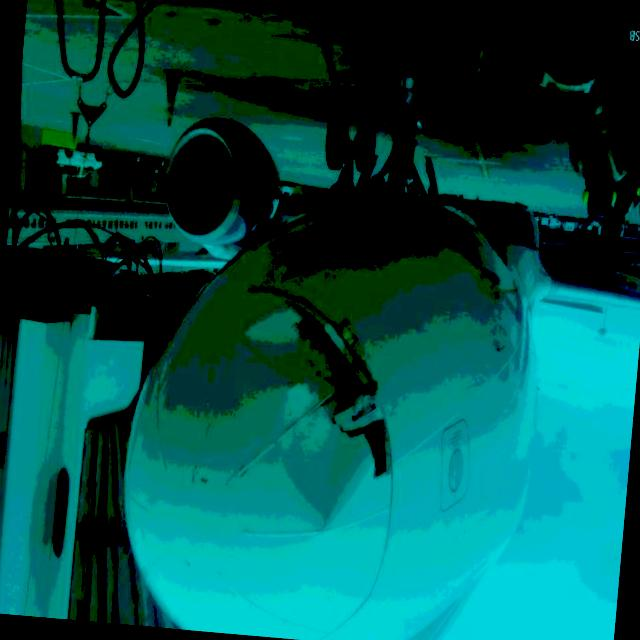dent: (271, 383, 379, 536), (239, 306, 318, 380)
